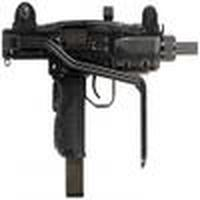gun: (2, 2, 191, 147)
